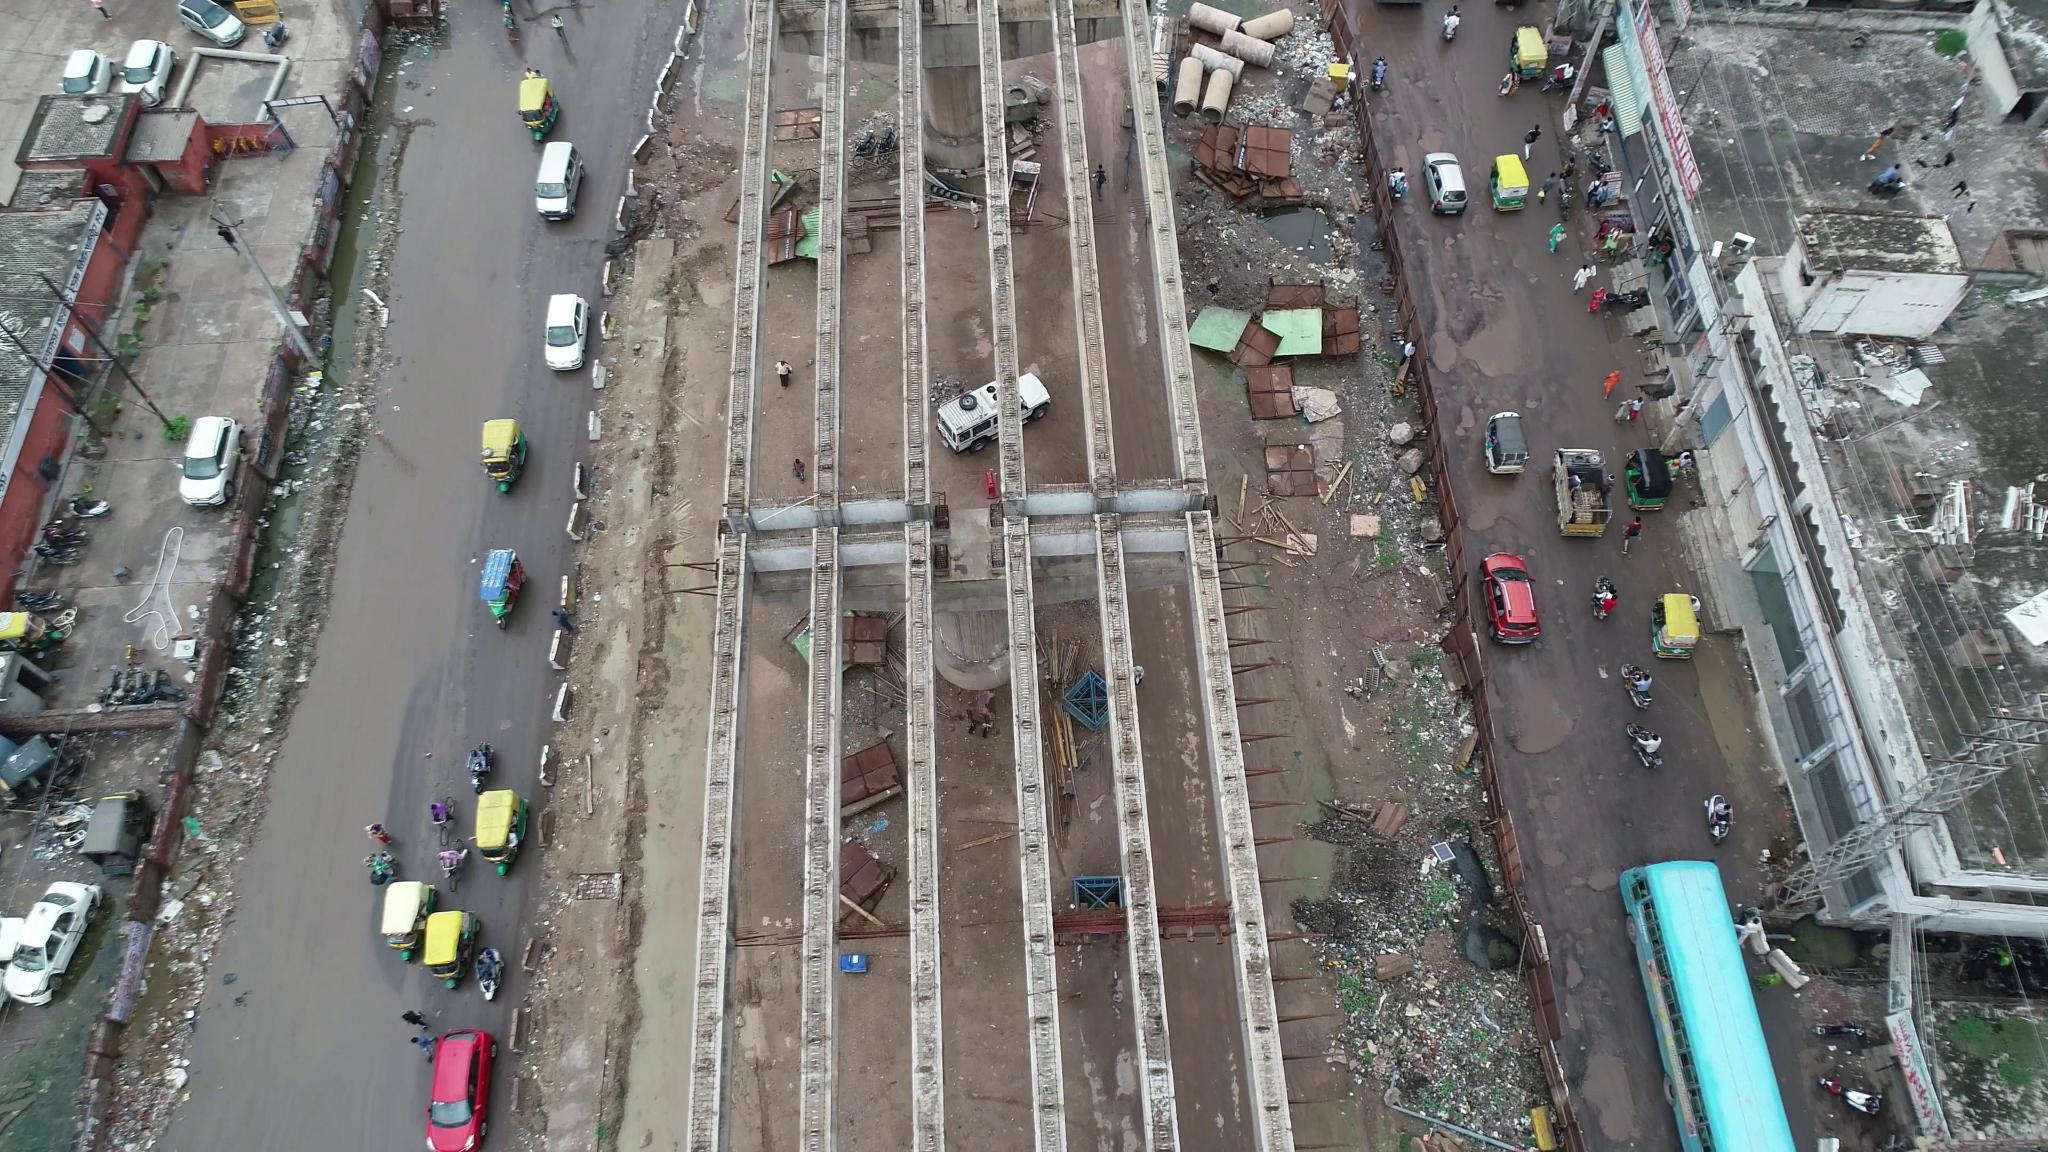Potholes: (1445, 233, 1518, 321), (1525, 767, 1580, 878), (1551, 927, 1602, 1025), (1523, 606, 1574, 672), (1446, 381, 1490, 444), (1394, 51, 1436, 98), (1519, 378, 1564, 416), (1402, 204, 1429, 259), (1490, 539, 1542, 561), (1376, 105, 1402, 134)
Waterlogging: (376, 136, 537, 504), (224, 919, 416, 1137)
